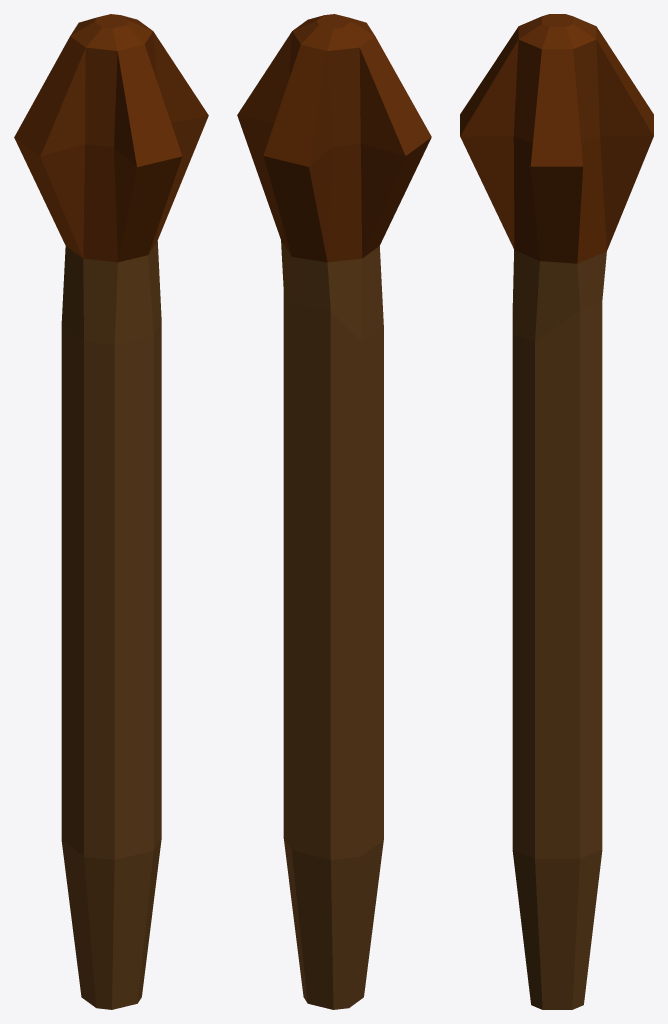
The model's file is BronzeMace.glb.
3 views of the same model, side by side, from view 1: azimuth 30°, elevation 25°; view 2: azimuth 150°, elevation 25°; view 3: azimuth 270°, elevation 25° (orthographic).
Parts seen in each view (by area): view 1: Mace; view 2: Mace; view 3: Mace.
Boxes of the visible parts, x1=… form: Mace: x1=14, y1=14, x2=208, y2=1009; Mace: x1=237, y1=14, x2=431, y2=1009; Mace: x1=460, y1=14, x2=653, y2=1009.
Bounding box in the file's own units: 0.1021 × 0.5647 × 0.1013.
